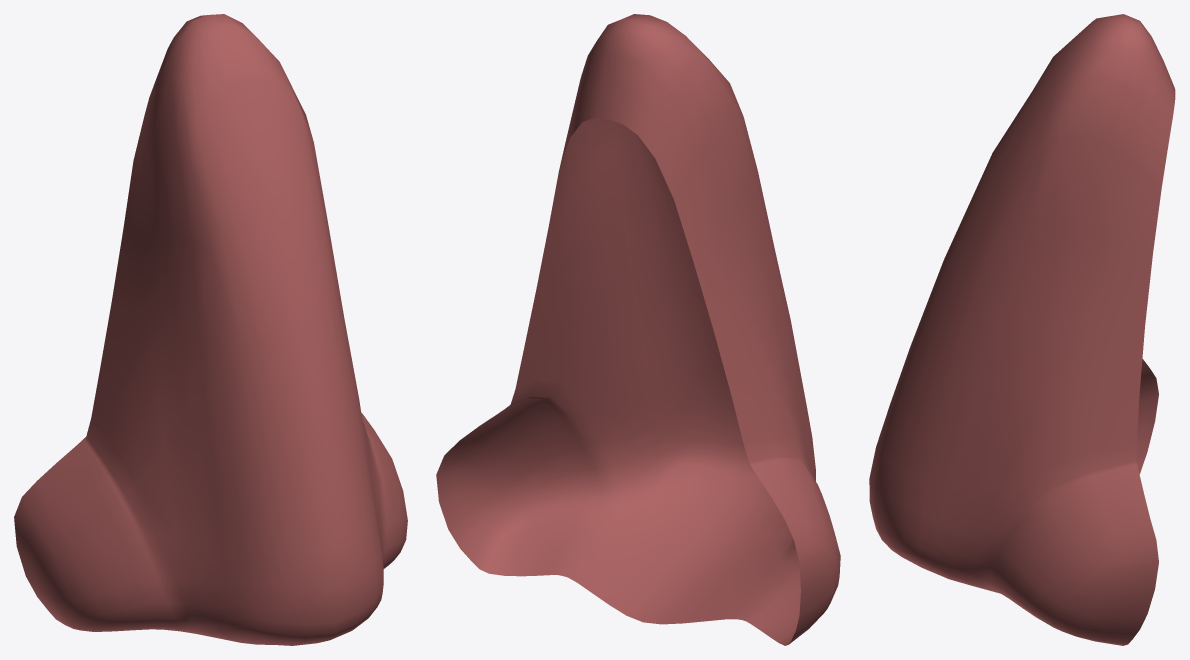
File: Nose00.fbx
3 views of the same model, side by side, from view 1: azimuth 30°, elevation 25°; view 2: azimuth 150°, elevation 25°; view 3: azimuth 270°, elevation 25° (orthographic). The views are drawn at different scales.
Parts seen in each view (by area): view 1: Nose1; view 2: Nose1; view 3: Nose1.
Boxes of the visible parts, <box> form: Nose1: <box>14,14,407,645</box>; Nose1: <box>436,14,840,645</box>; Nose1: <box>869,14,1175,645</box>.
Size of the model in its own units: 2.46 by 3.92 by 1.89.
